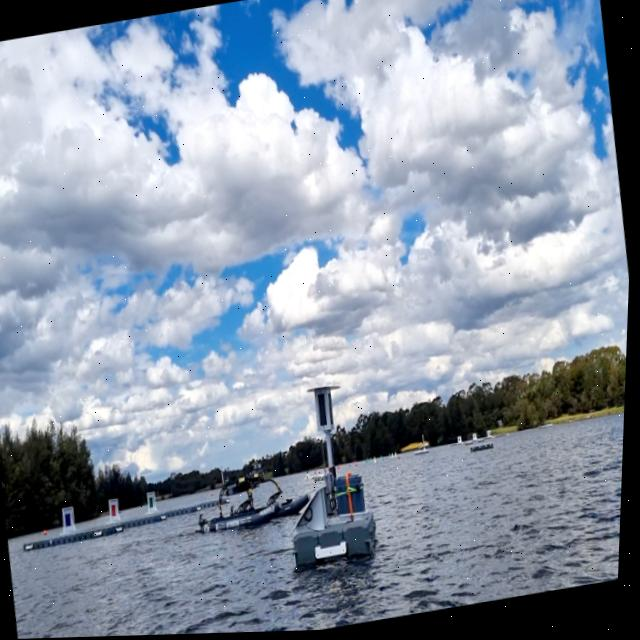led: (318, 392, 333, 430)
